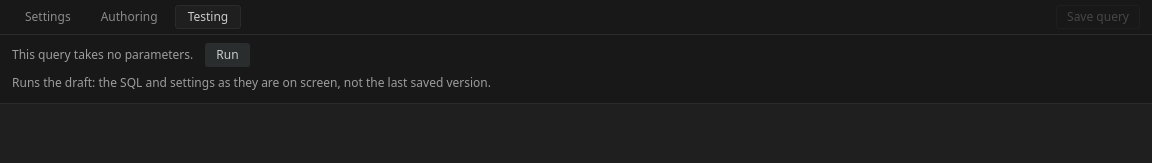
Testing › renders an Update result as a count of rows affected
Click the button "Run" at (227, 55), box [205,43,250,67]
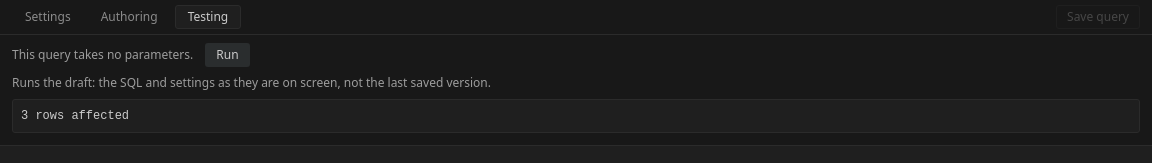
Check: the text "3 rows affected" is shown, box [12,99,1140,133]
